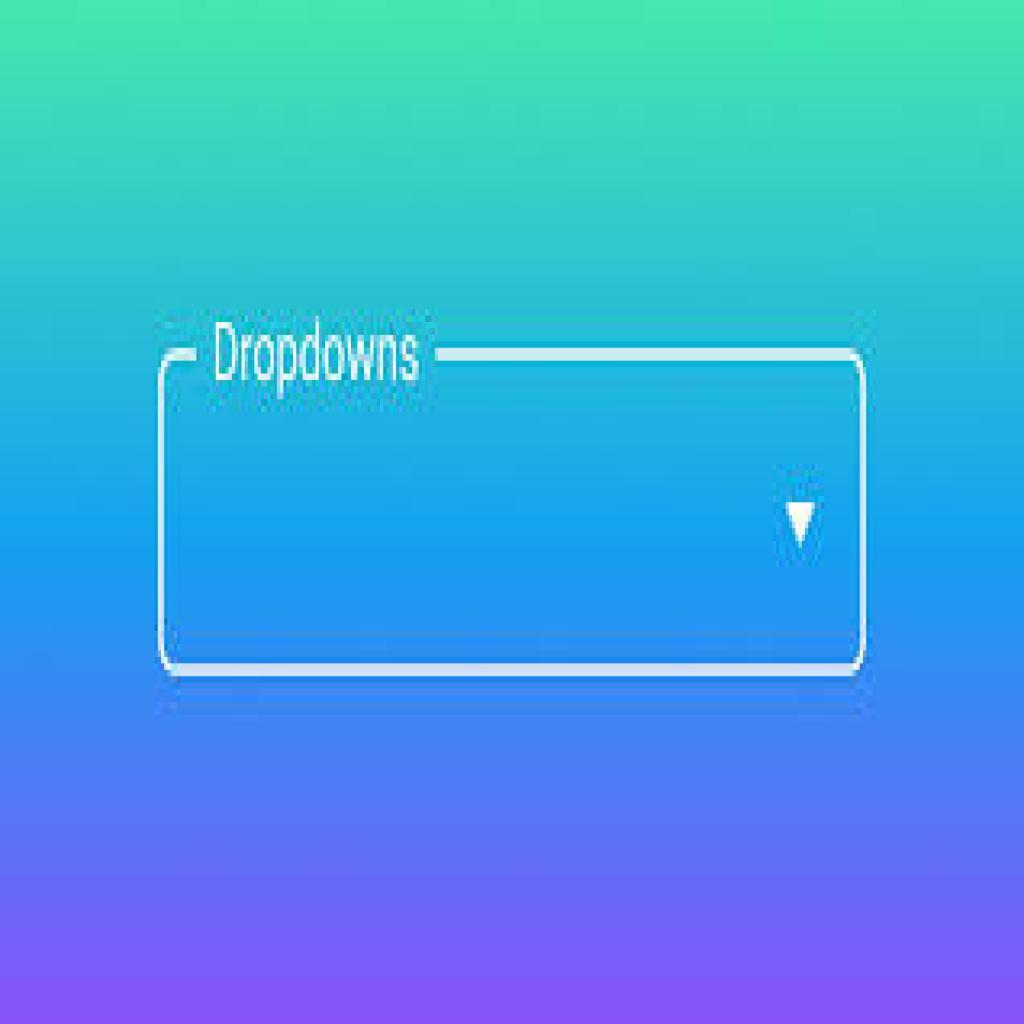dropdown: (159, 347, 868, 678)
